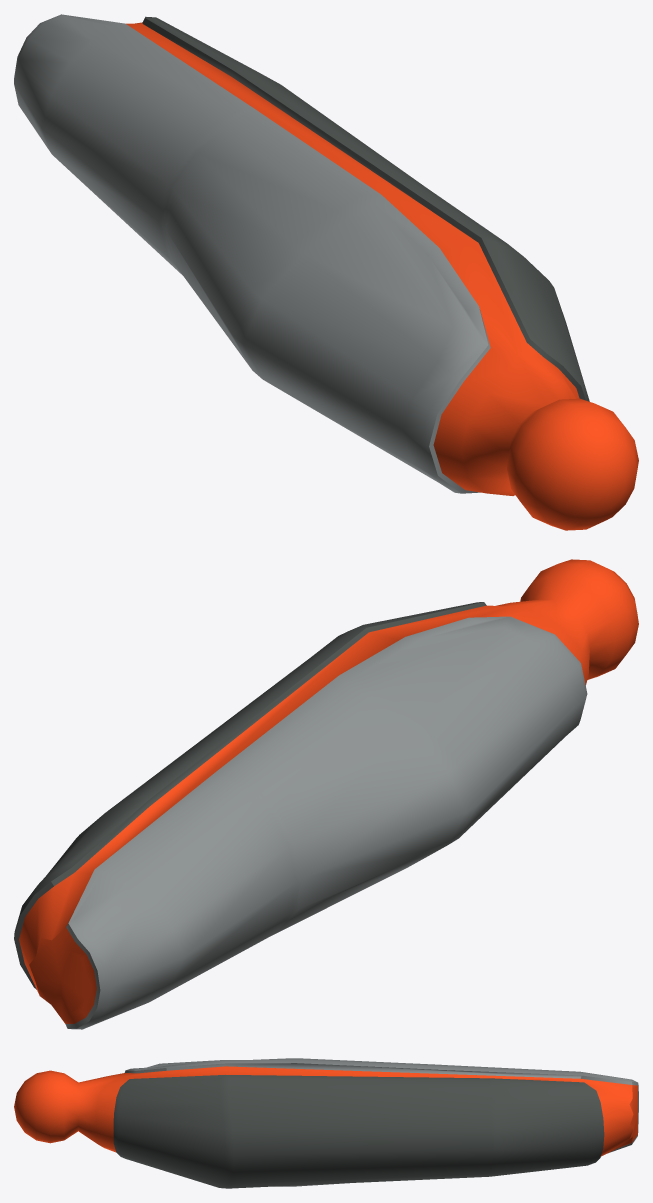
The model's file is xsens_LeftUpperArm.dae.
The picture shows the model from 3 angles, top to bottom: view 1: azimuth 30°, elevation 25°; view 2: azimuth 150°, elevation 25°; view 3: azimuth 270°, elevation 25°; orthographic projection. The views are drawn at different scales.
Visible parts, largest first — view 1: LeftUpperArm; view 2: LeftUpperArm; view 3: LeftUpperArm.
Boxes of the visible parts, <box> form: LeftUpperArm: <box>14,14,638,530</box>; LeftUpperArm: <box>14,559,638,1029</box>; LeftUpperArm: <box>14,1058,638,1188</box>.
Bounding box in the file's own units: 0.0874 × 0.3246 × 0.0679.
